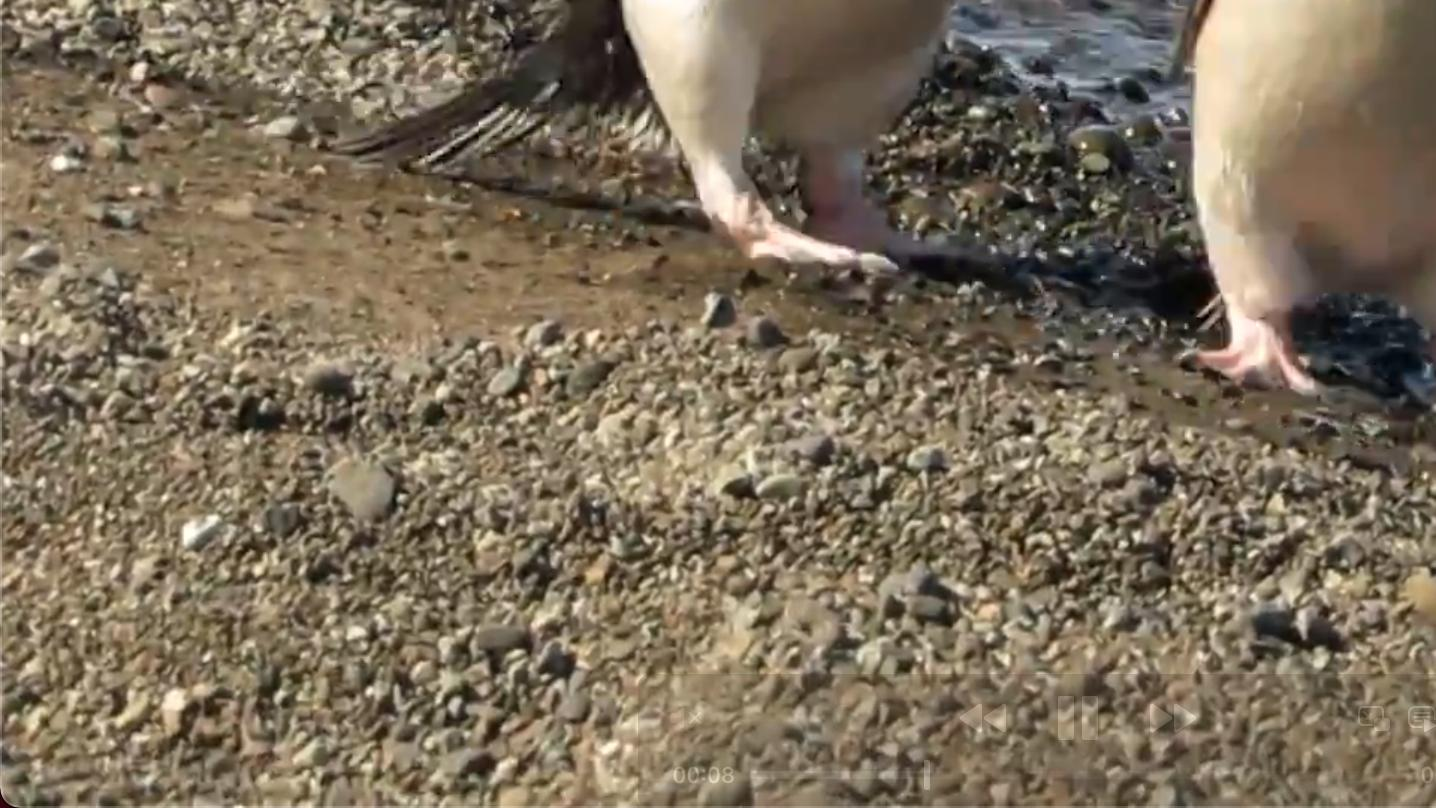Chinstrap Penguin: (493, 0, 1331, 323), (1203, 0, 1436, 400)
